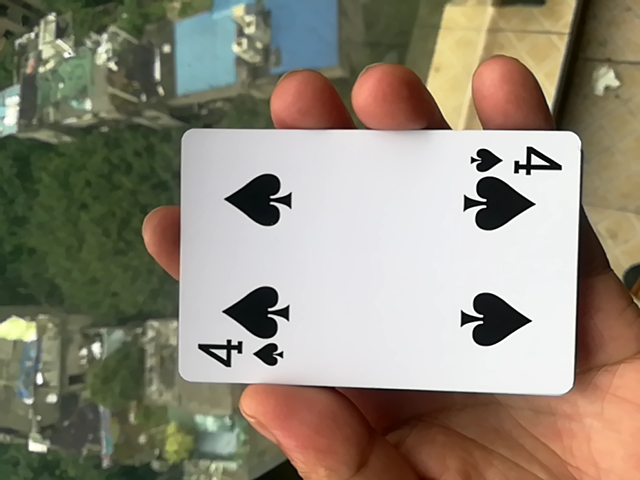ht 4: (161, 126, 574, 402)
